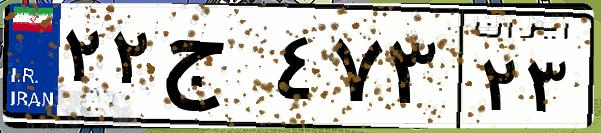2: (57, 26, 110, 100), (475, 38, 525, 113), (110, 28, 158, 98)
3: (385, 28, 445, 110), (525, 38, 570, 115)
4: (270, 28, 330, 110)
7: (330, 28, 385, 110)
ج: (158, 20, 270, 120)
